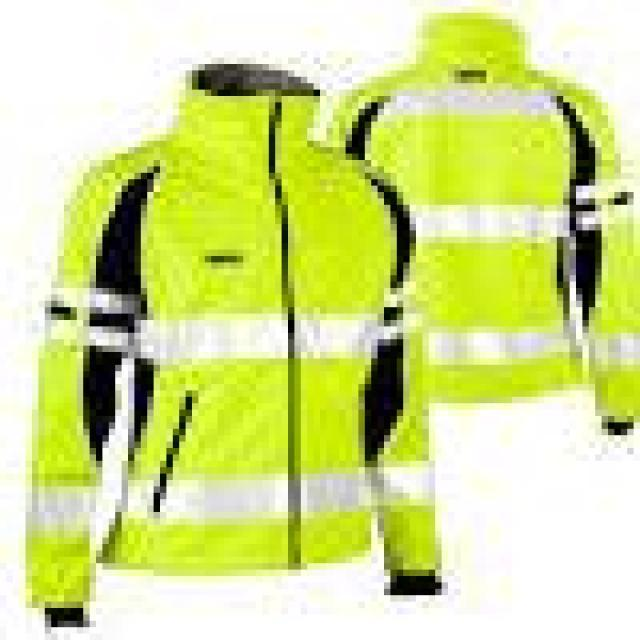reflective_jacket: (1, 54, 450, 626), (320, 1, 639, 439)
